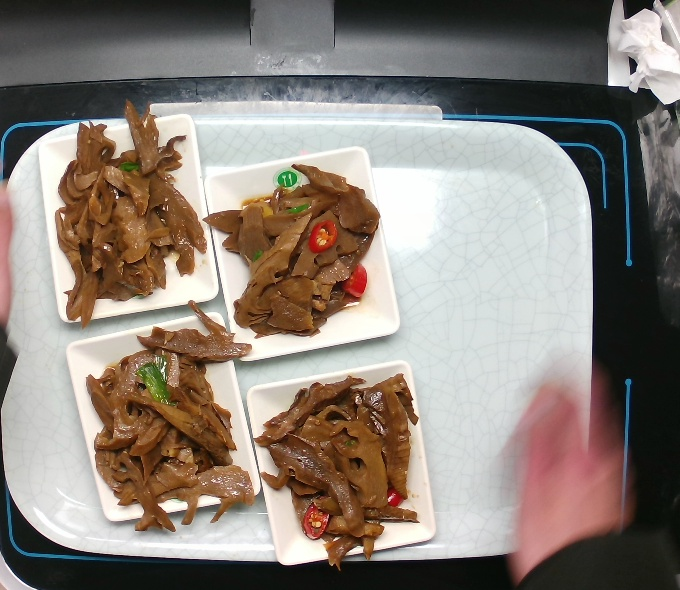wcq-SunGan: (50, 91, 214, 321), (90, 310, 250, 534), (251, 369, 430, 563), (211, 161, 385, 341)
